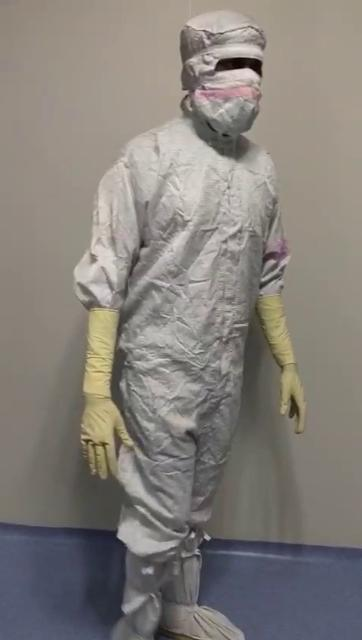boot_secured: (150, 489, 252, 639), (94, 488, 176, 640)
gloves_fitted_securely: (53, 292, 130, 488), (242, 260, 314, 444)
headgear_secured: (175, 3, 268, 147)
zip_secured: (181, 158, 227, 436)
